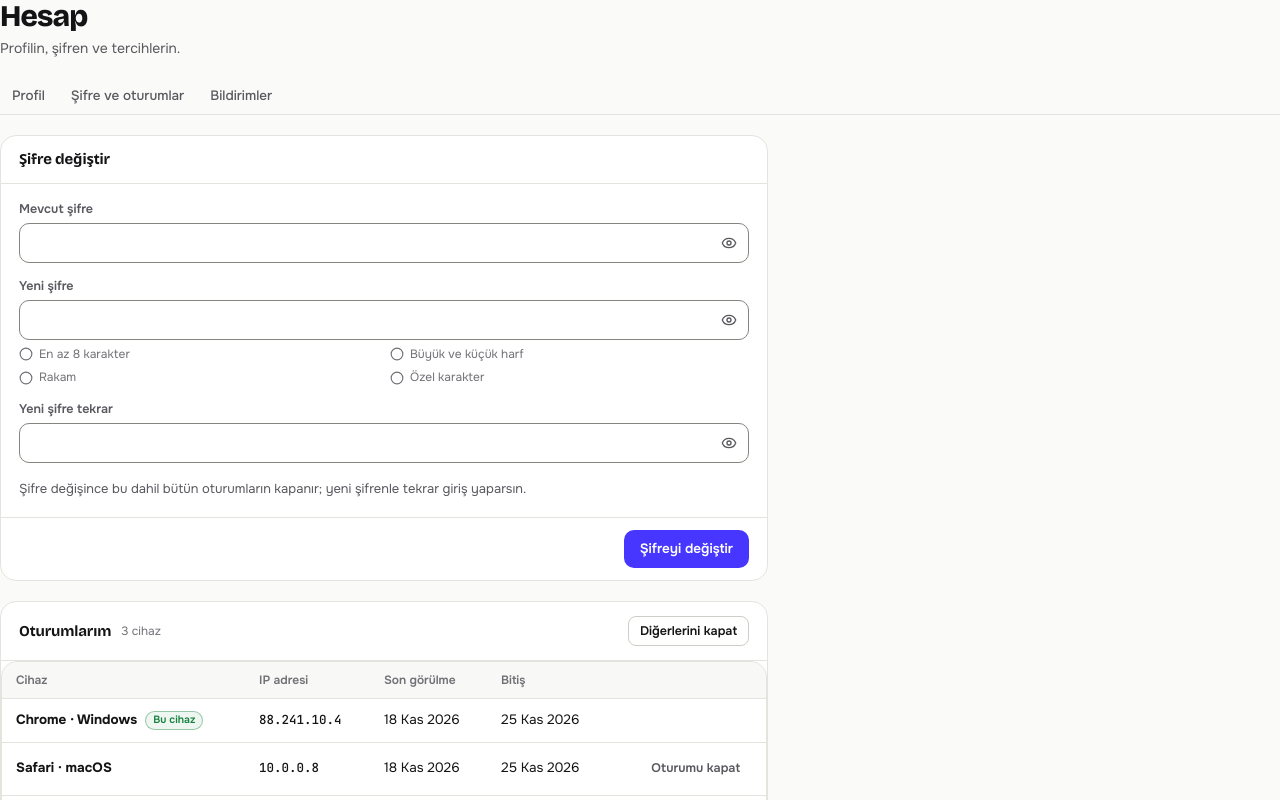
Scenario: account sessions and linked accounts › signs out every other device
Click the button "Diğerlerini kapat" at (688, 631), box [628,616,749,646]
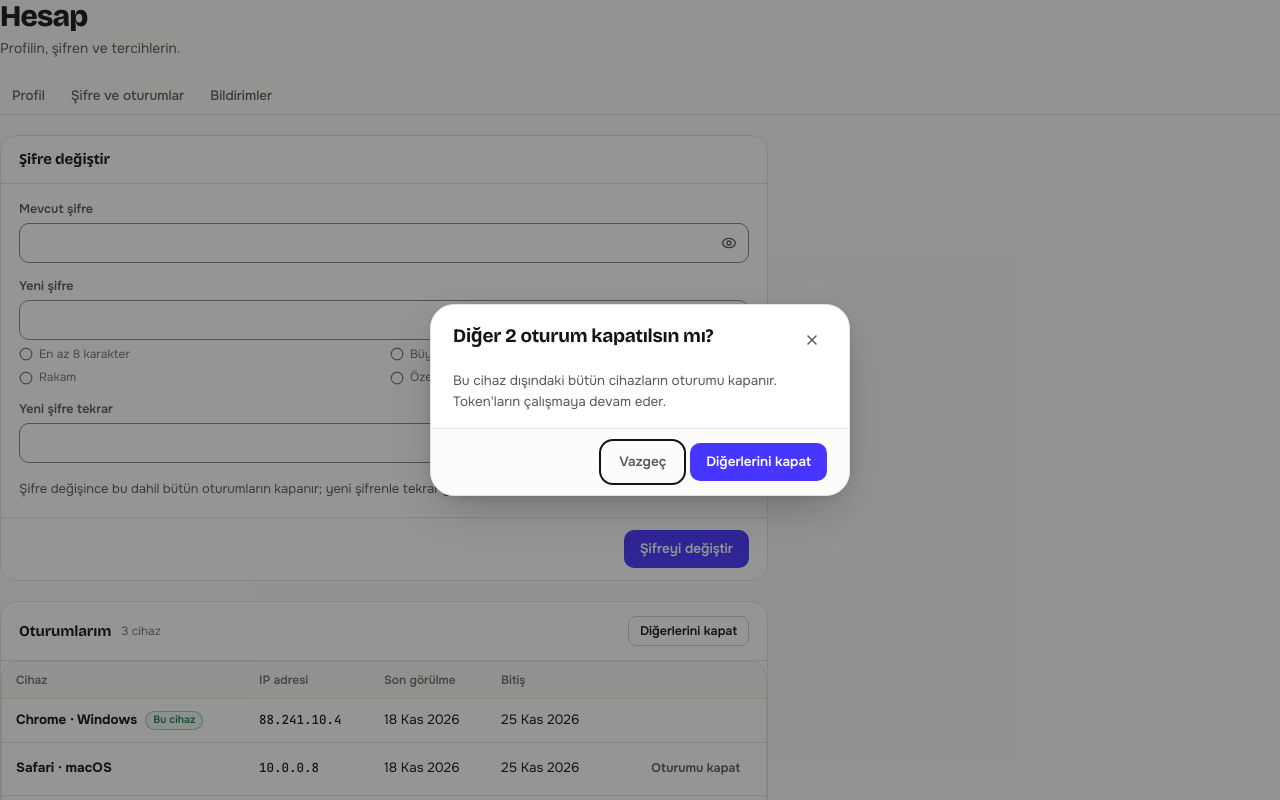
Click the button "Diğerlerini kapat" at (759, 462), box [690,443,827,481]
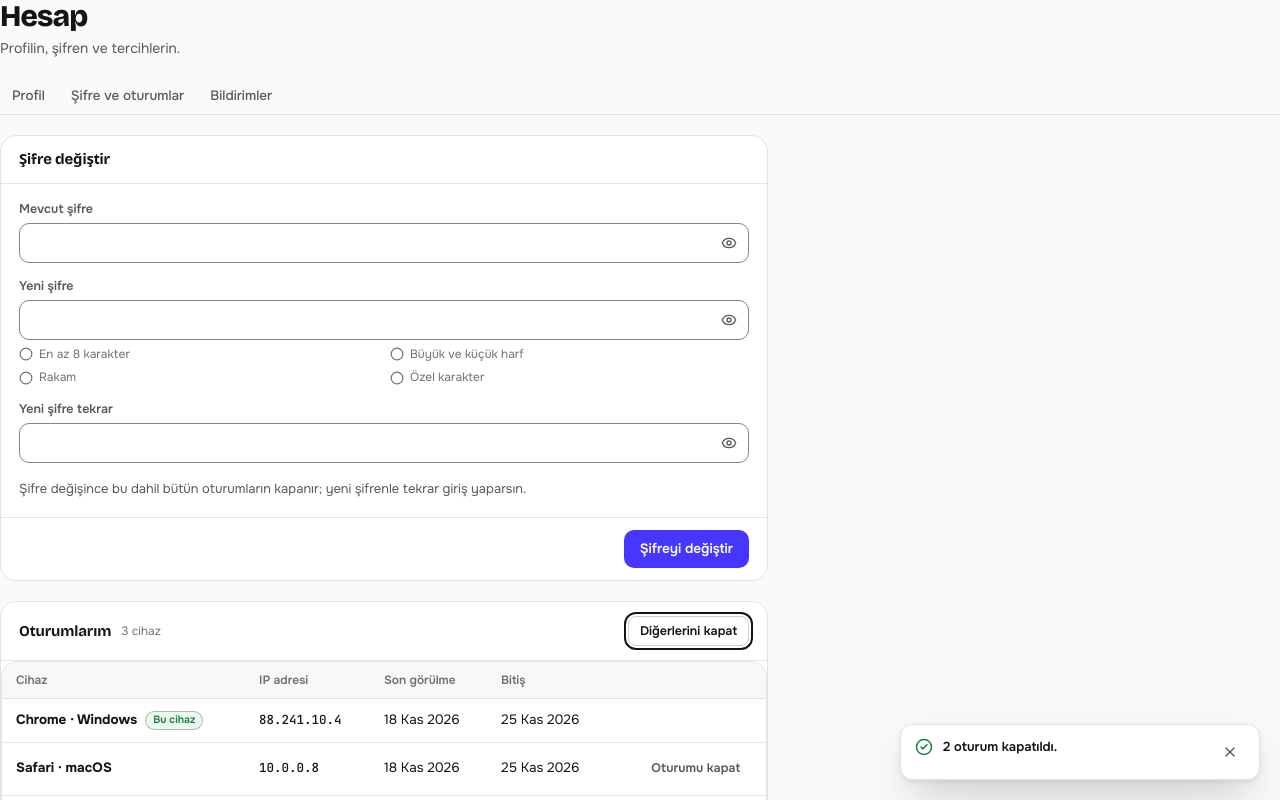
Result: the text "2 oturum kapatıldı." is shown at [943,738,1057,755]
